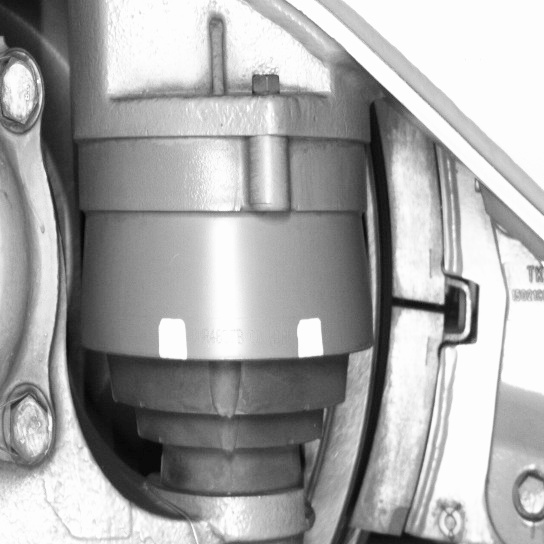KnifeSwitch: (329, 138, 460, 542)
